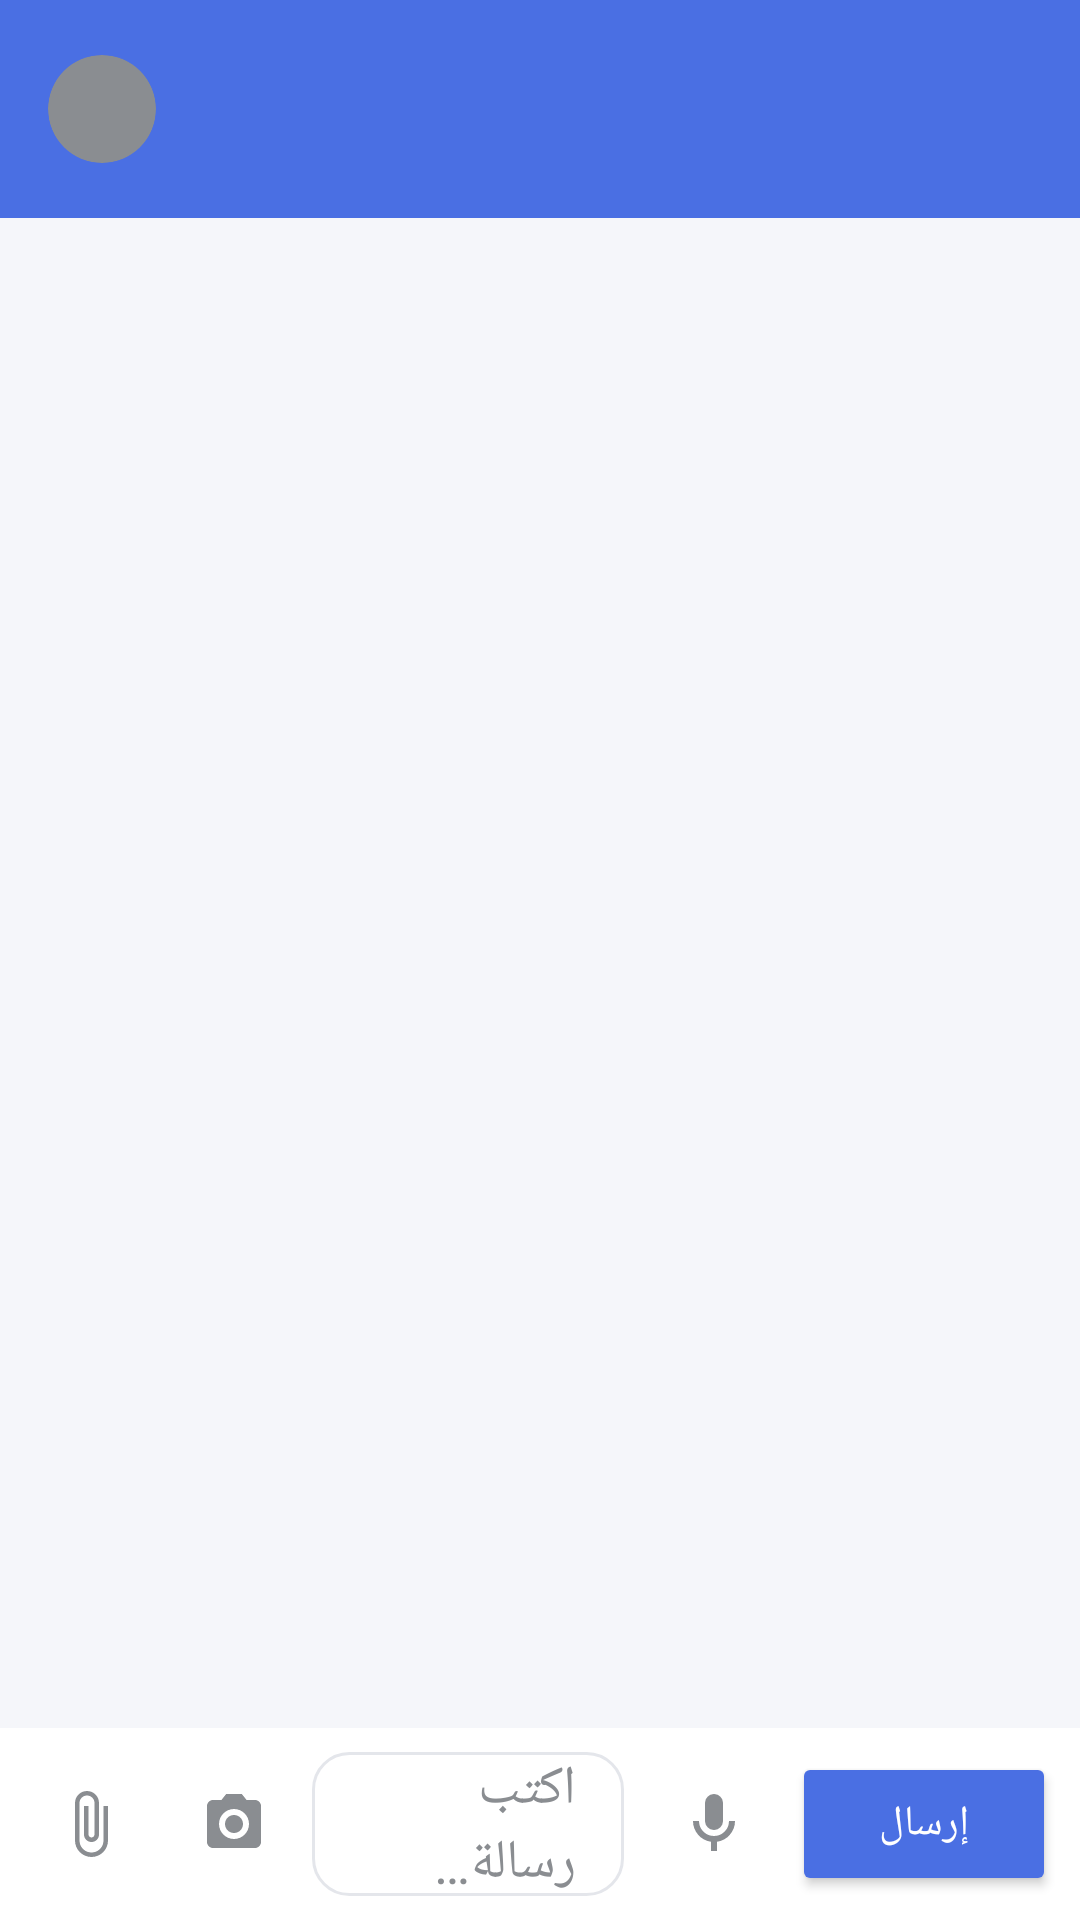

Named icons in this screenshot (1080 × 1920) and their bounding boxes, [x1, y1, x2, y2]:
إرفاق صورة: [75, 1791, 108, 1857]
التقاط صورة: [207, 1794, 261, 1848]
تسجيل صوتي: [693, 1794, 735, 1851]
